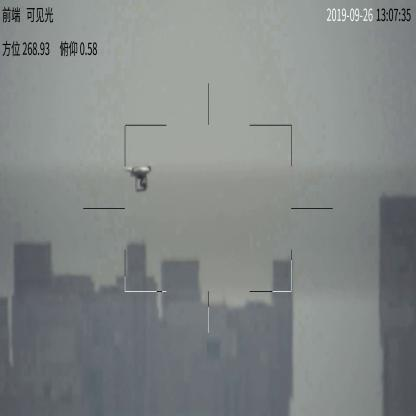uav: (122, 163, 158, 192)
